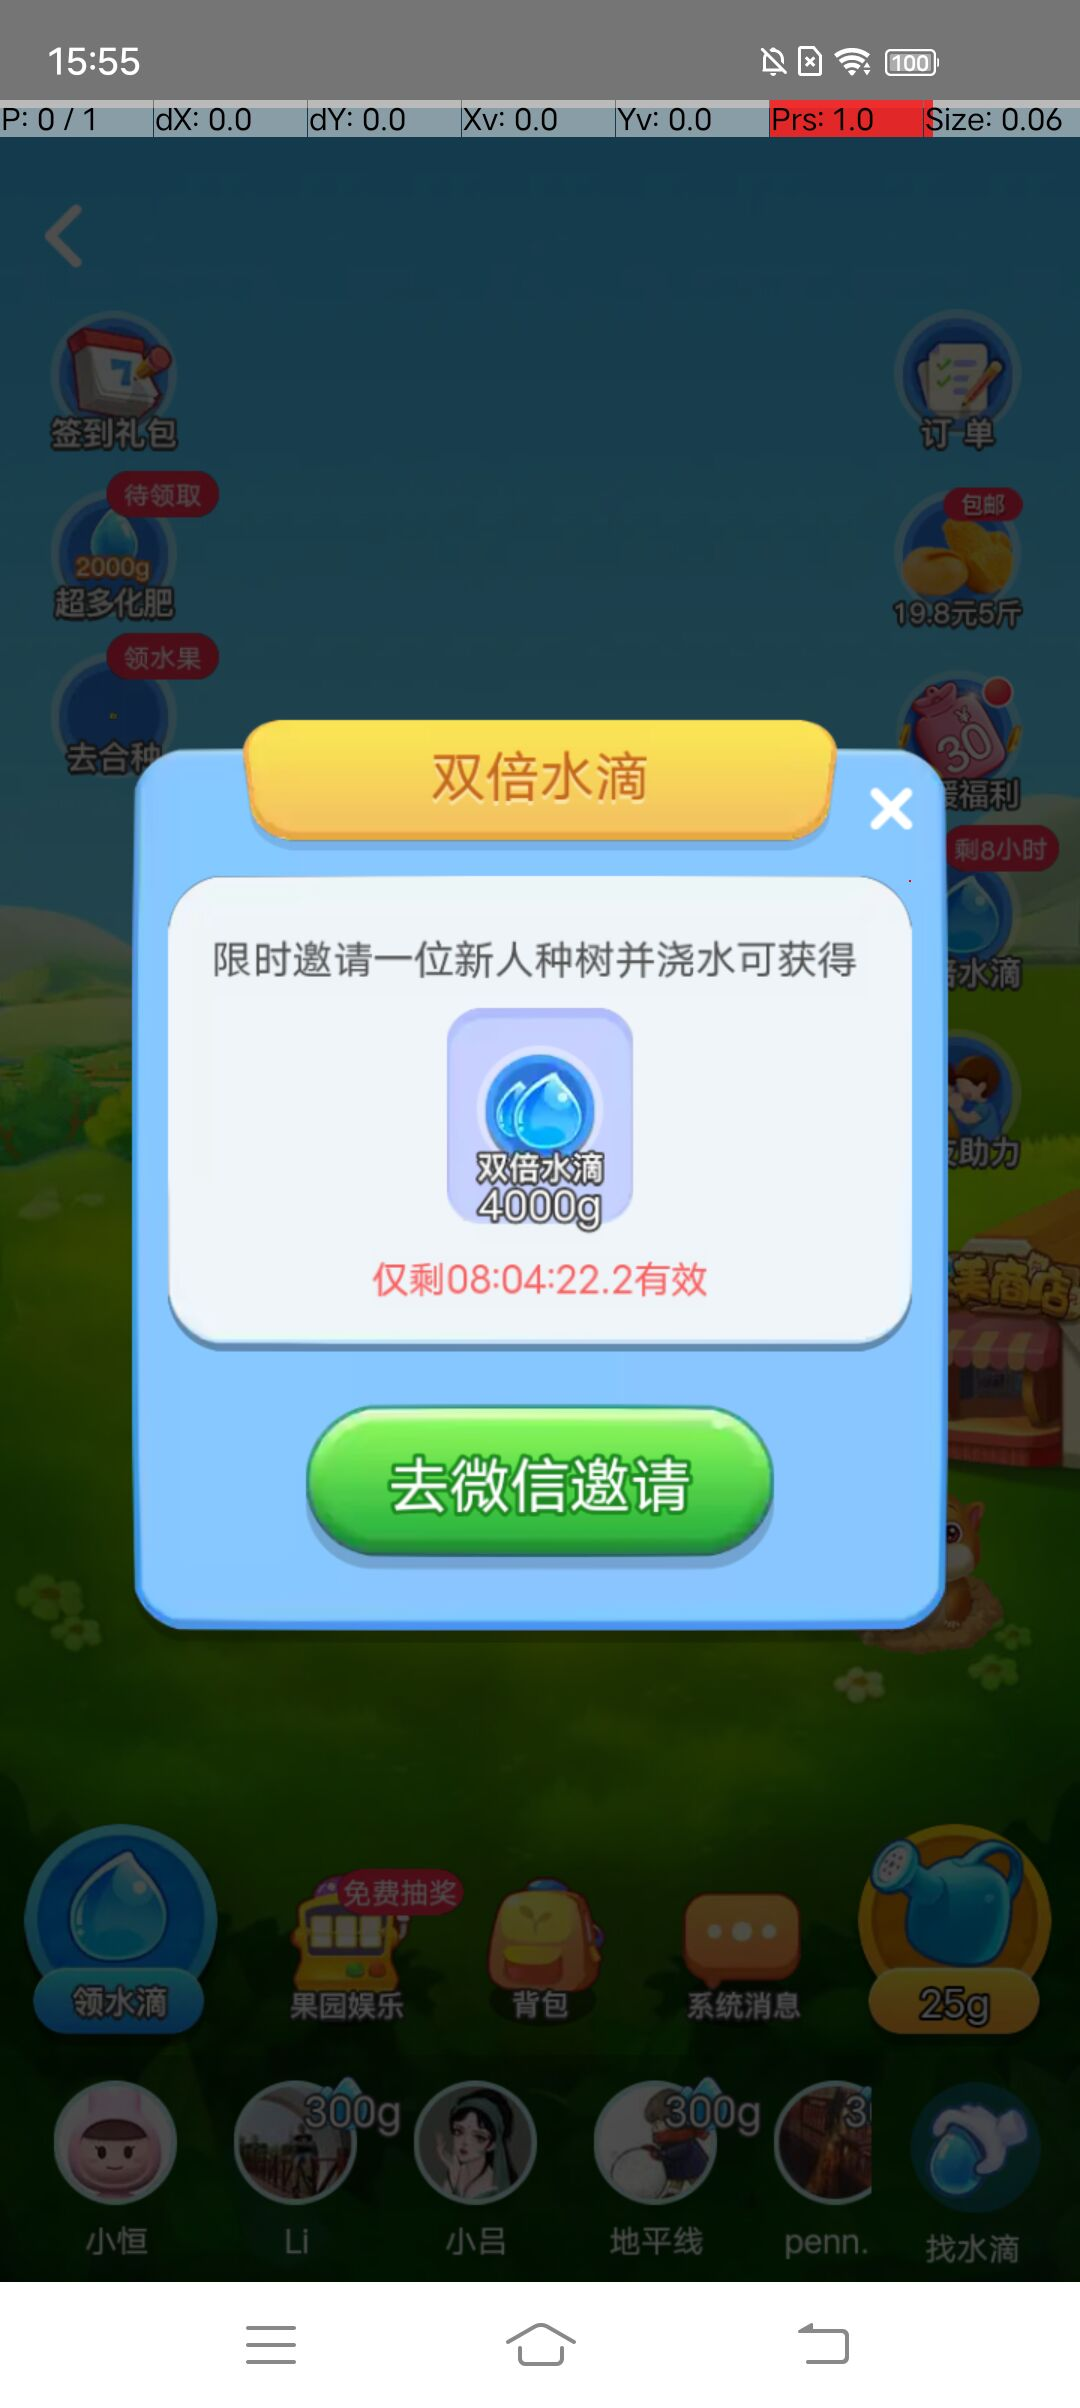popup: (870, 792, 919, 828)
